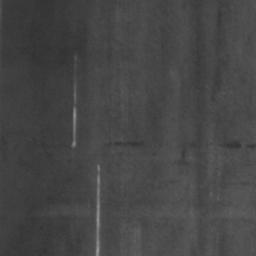Bright scratch: (96, 166, 102, 256), (72, 109, 78, 148)
